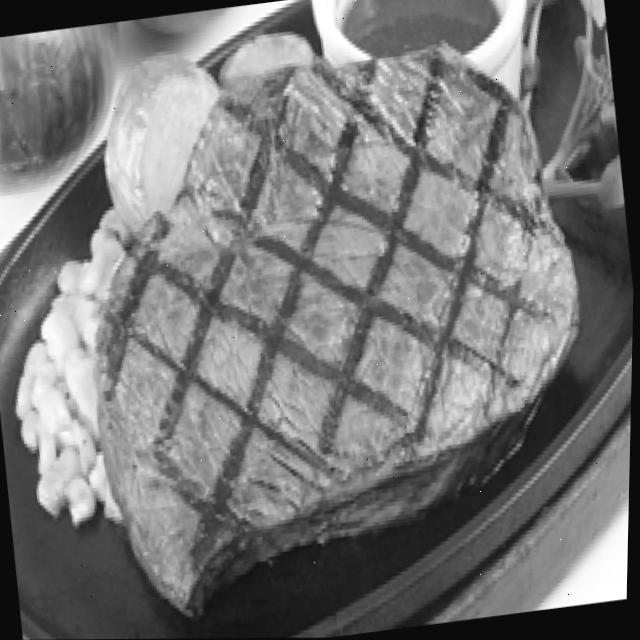牛肉菜式: (47, 5, 621, 630)
